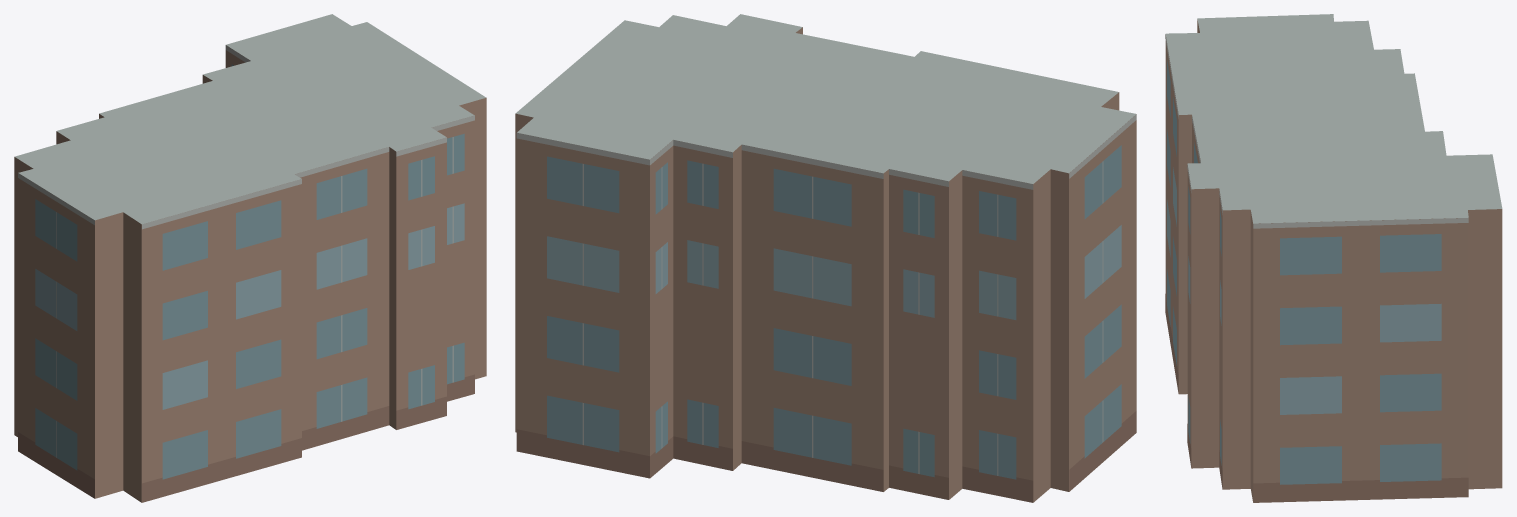
The model's file is survey-upis-33041938.glb.
3 views of the same model, side by side, from view 1: azimuth 30°, elevation 25°; view 2: azimuth 150°, elevation 25°; view 3: azimuth 270°, elevation 25° (orthographic). The views are drawn at different scales.
Visible parts, largest first — view 1: survey-upis-33041938.tmp; view 2: survey-upis-33041938.tmp; view 3: survey-upis-33041938.tmp.
Part boxes in pixels (bbox=[...]): survey-upis-33041938.tmp: bbox=[14, 14, 486, 502]; survey-upis-33041938.tmp: bbox=[515, 14, 1136, 502]; survey-upis-33041938.tmp: bbox=[1165, 14, 1502, 502].
Bounding box in the file's own units: 21.66 × 13.45 × 14.72.
